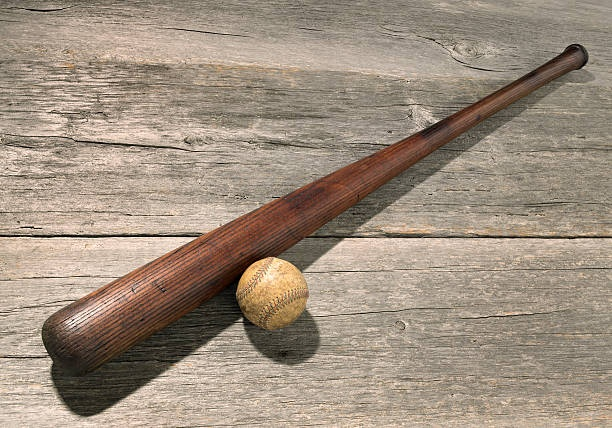bita: (37, 45, 587, 375)
